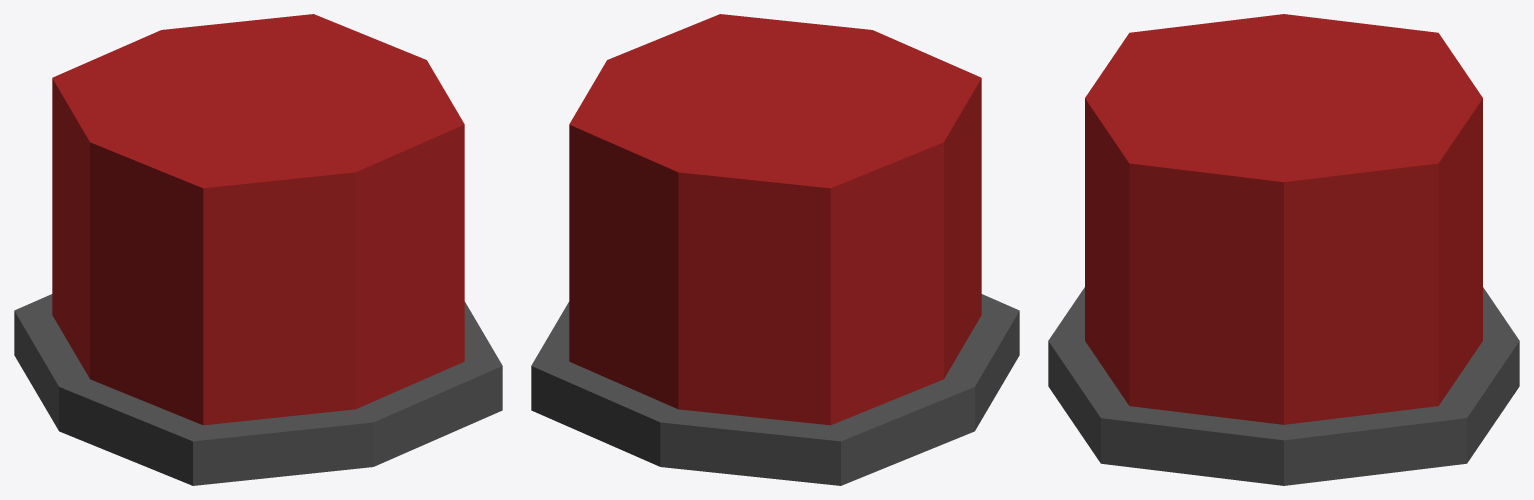
Rendered from Siren.gltf.
3 renders of one model, left to right at view 1: azimuth 30°, elevation 25°; view 2: azimuth 150°, elevation 25°; view 3: azimuth 270°, elevation 25°, orthographic. The views are drawn at different scales.
Parts seen in each view (by area): view 1: cuboid (×2); view 2: cuboid (×2); view 3: cuboid (×2).
Part boxes in pixels (box(x1,y1,x2,y2)): cuboid (×2): box(14, 14, 502, 485); cuboid (×2): box(531, 14, 1019, 485); cuboid (×2): box(1048, 14, 1519, 485).
Bounding box in the file's own units: 1.29 × 0.8687 × 1.29.
Materials: 1 (1 with a texture image).
